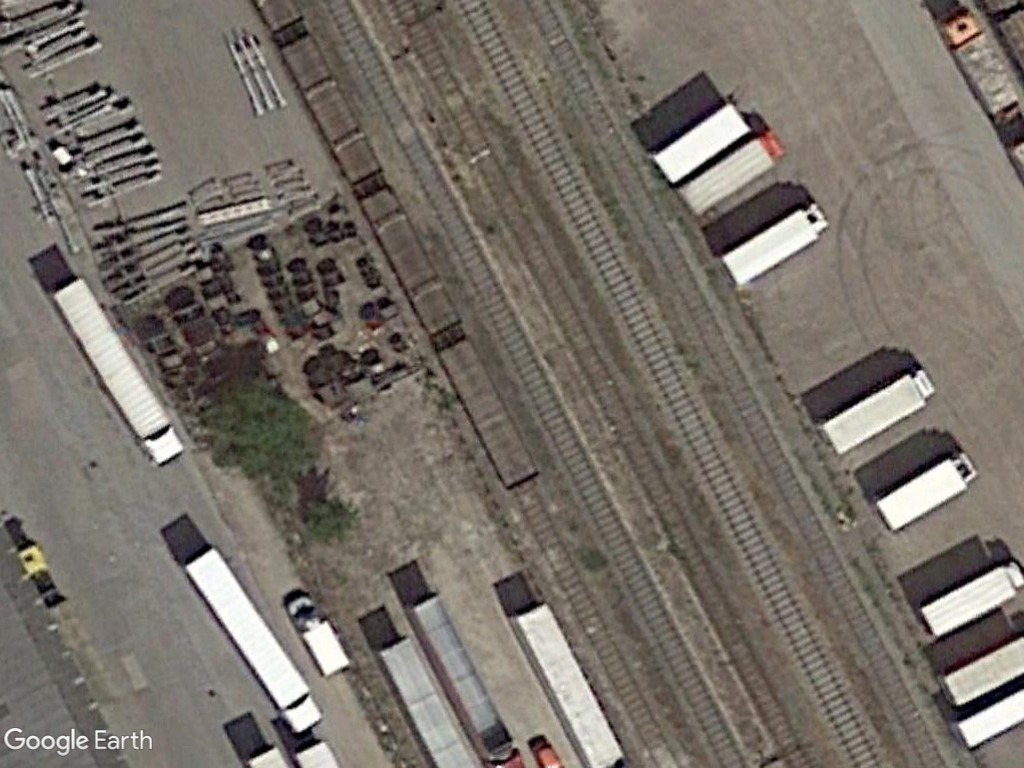longvehicle: (179, 541, 323, 740), (44, 276, 185, 472)
truck: (815, 362, 941, 460), (717, 197, 832, 295), (868, 447, 981, 540), (671, 128, 787, 218), (913, 553, 1024, 644), (279, 592, 355, 681)
